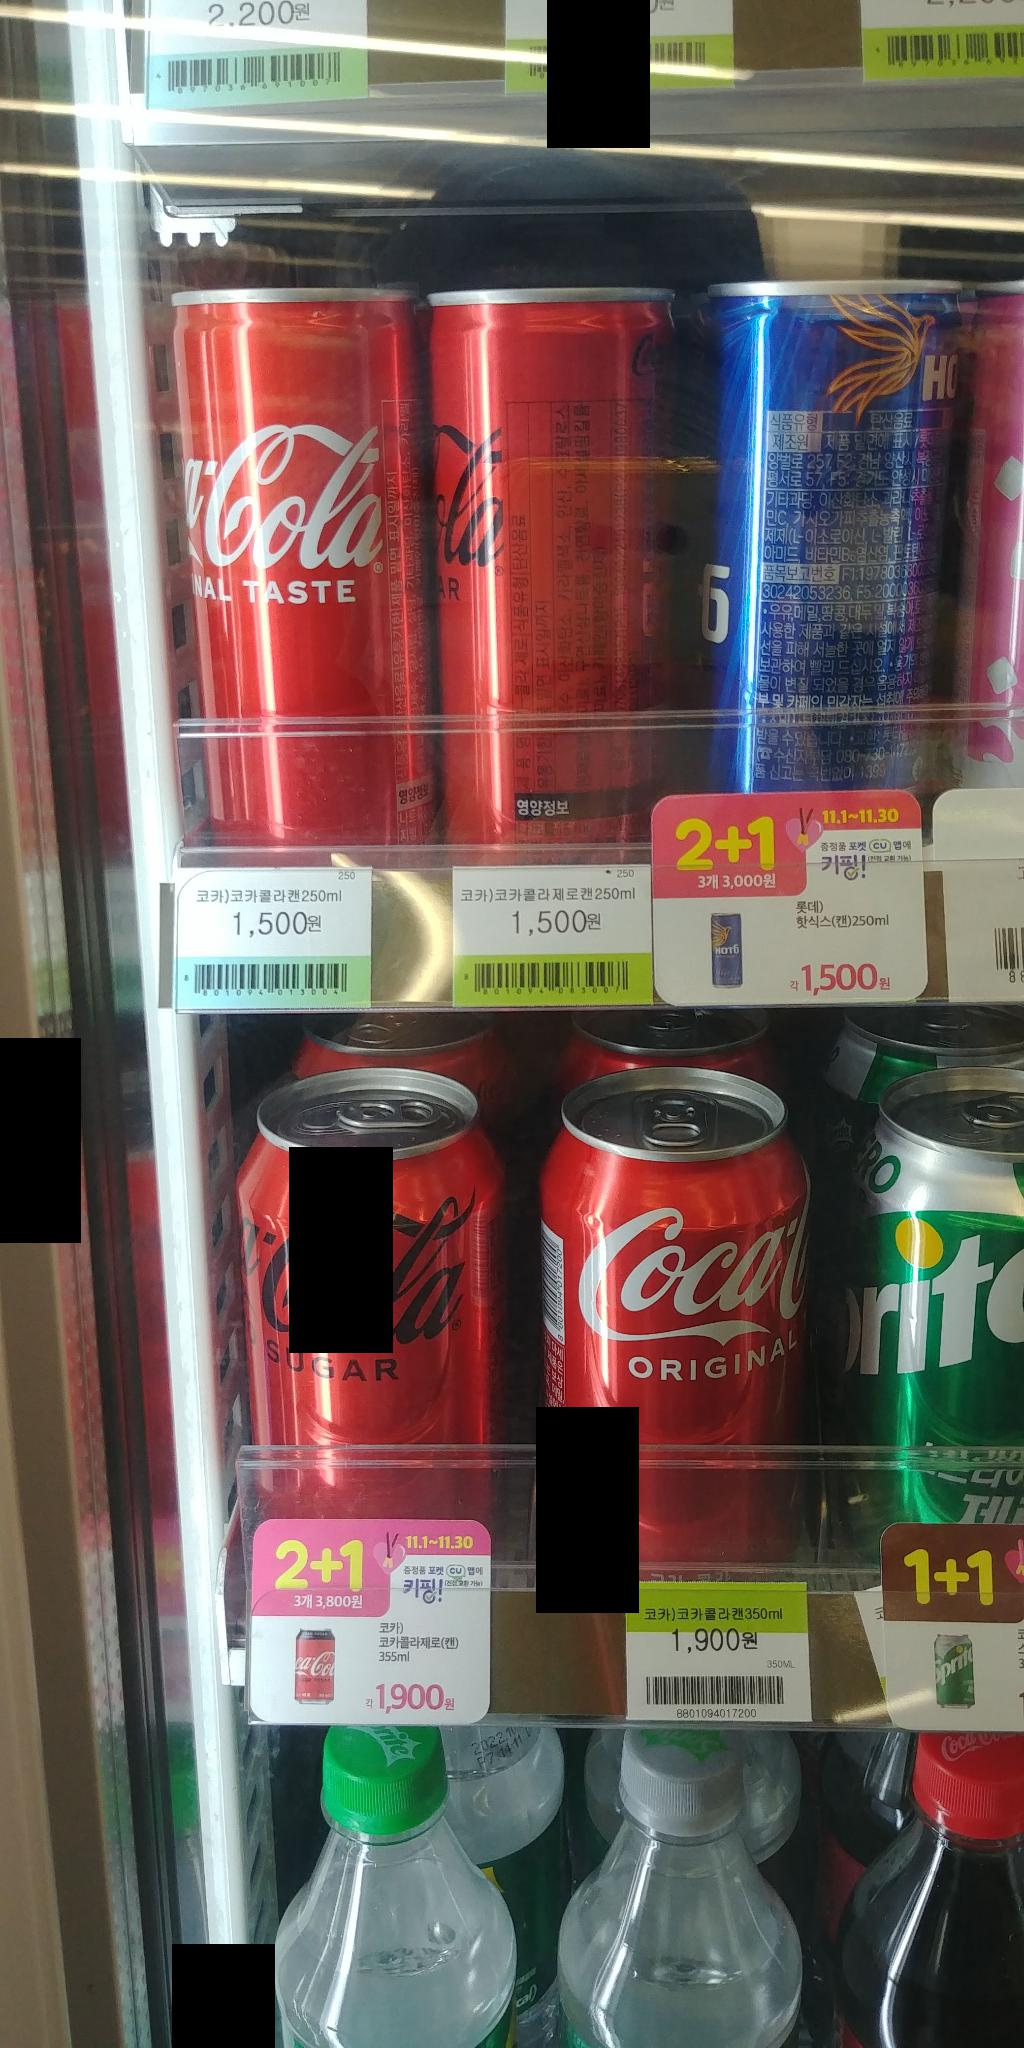cocacola: (549, 1053, 819, 1541)
